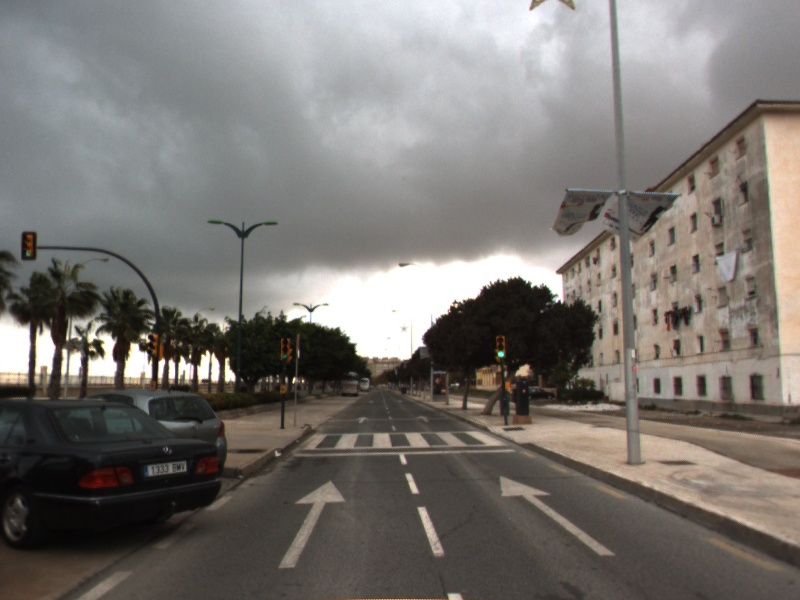STRAIGHT: (497, 473, 620, 558), (277, 477, 350, 570), (414, 413, 433, 424), (353, 415, 372, 425)
